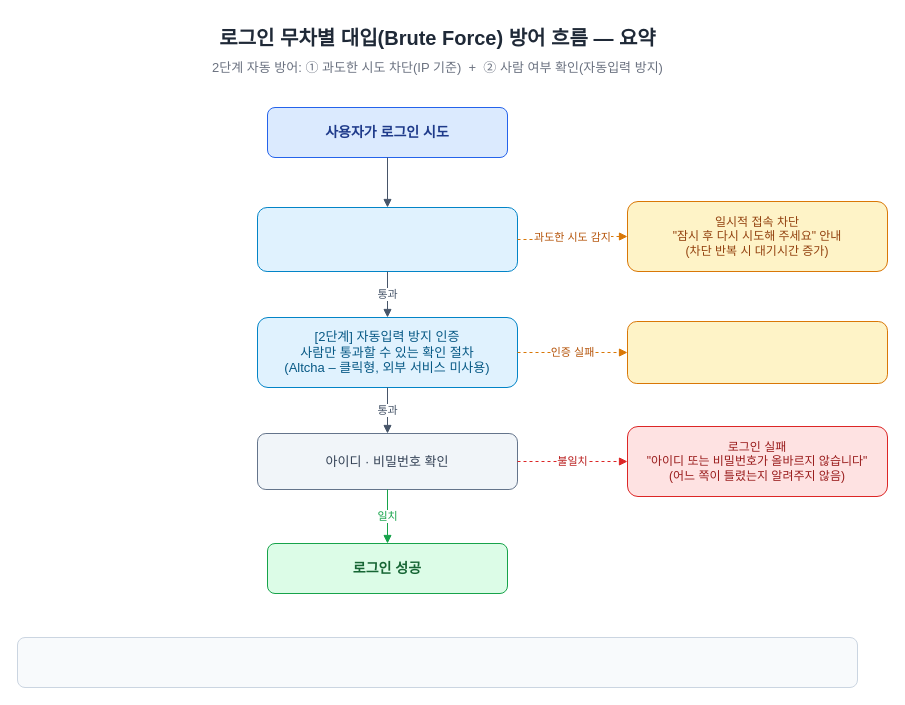
The diagram is 905 pixels wide and 705 high, and some of its shapes have lost their labels. Each missing label, with the centre of its shape:
[1단계] 과도한 시도 차단 짧은 시간에 반복 실패한 IP를 감지: (x=387, y=239)
방어 효과: 자동화 도구의 대량 시도를 ①속도 제한과 ②사람 확인으로 무력화. 정상 사용자의 로그인 경험에는 영향 최소화.: (x=437, y=662)
인증 미완료 시 로그인 거부 자동입력 방지 인증 재요청: (x=757, y=352)
